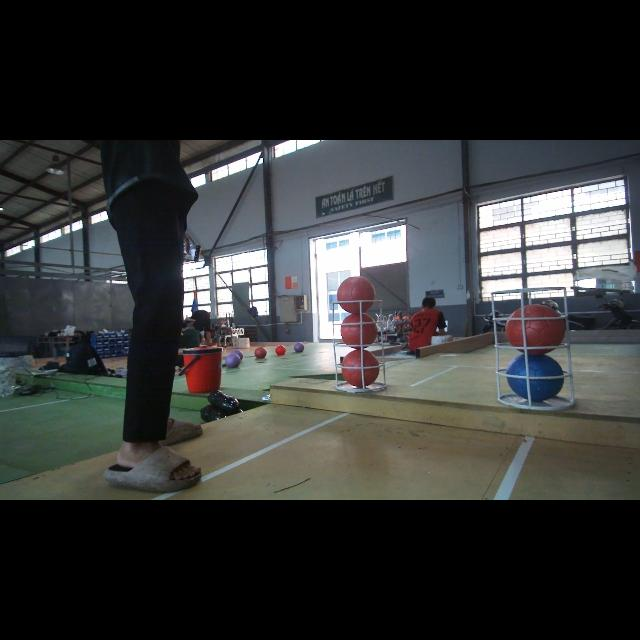B: (506, 353, 564, 401)
R: (506, 304, 564, 354), (341, 348, 381, 389), (336, 276, 376, 312)
